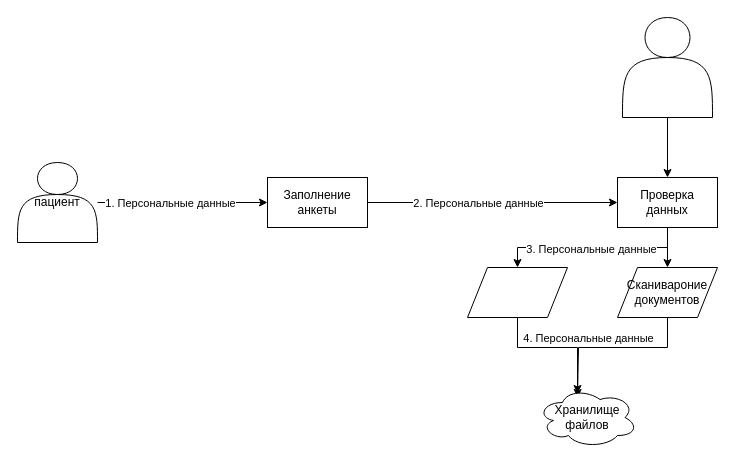
This 735x465 diagram has some shape labels left out. The centre of each missing label's shape, as x and y in pixels:
"Администратор" belongs at point 667,67.
"Заполнение Excel" belongs at point 517,292.
